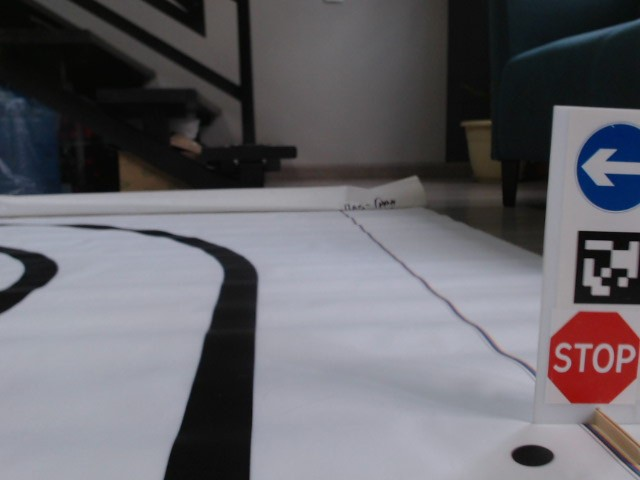Stop: (549, 310, 640, 401)
